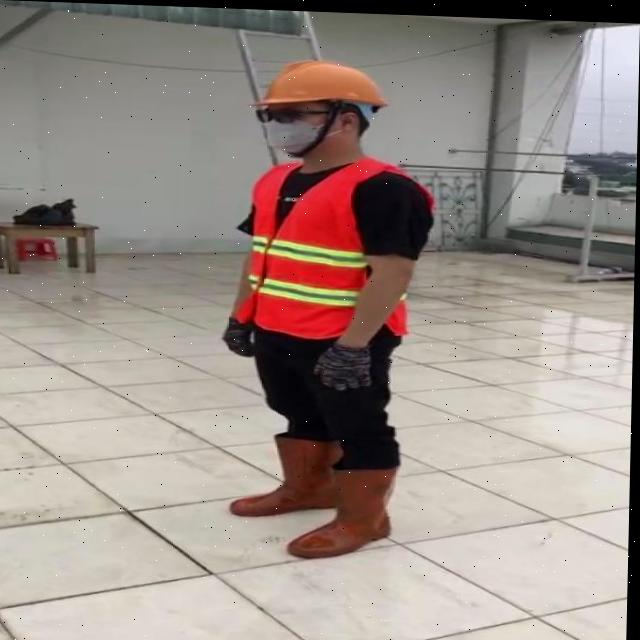Gloves: (314, 337, 374, 390), (222, 314, 257, 355)
Helmet: (248, 55, 389, 111)
Safety-Boot: (288, 457, 400, 558), (231, 427, 345, 517)
Safety-Vest: (239, 152, 424, 340)
